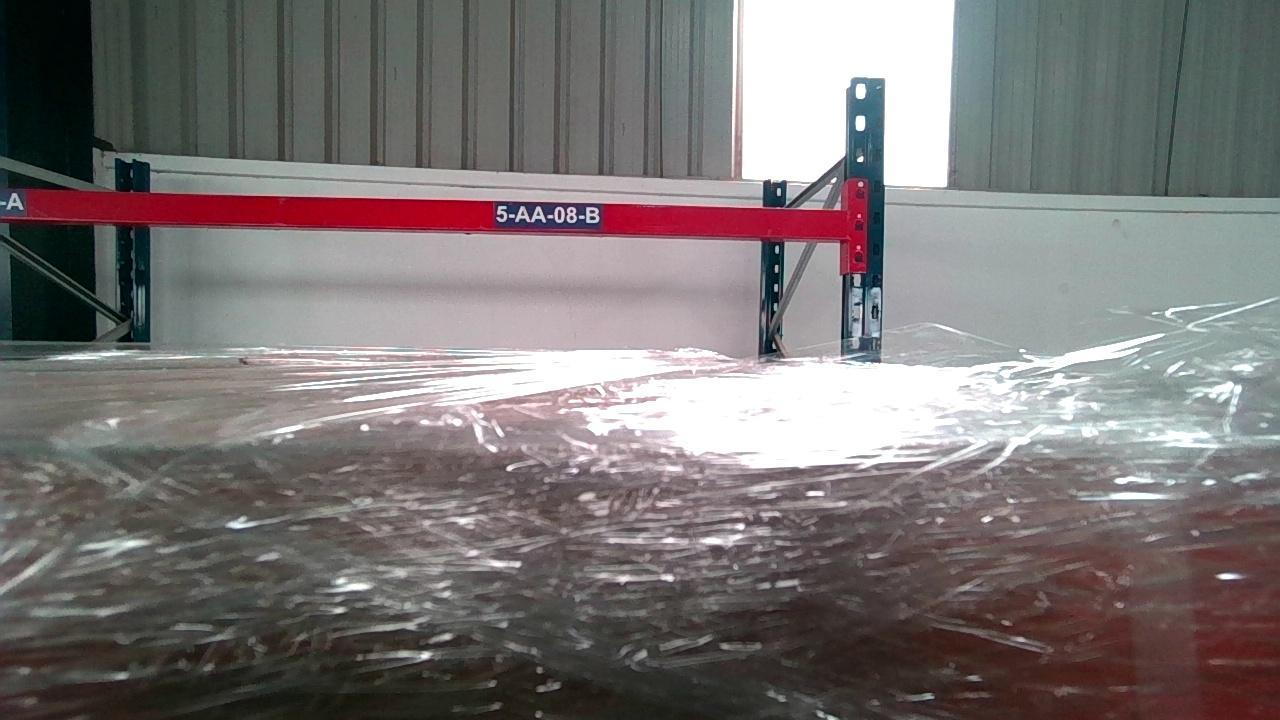h_rack: (0, 186, 850, 238)
